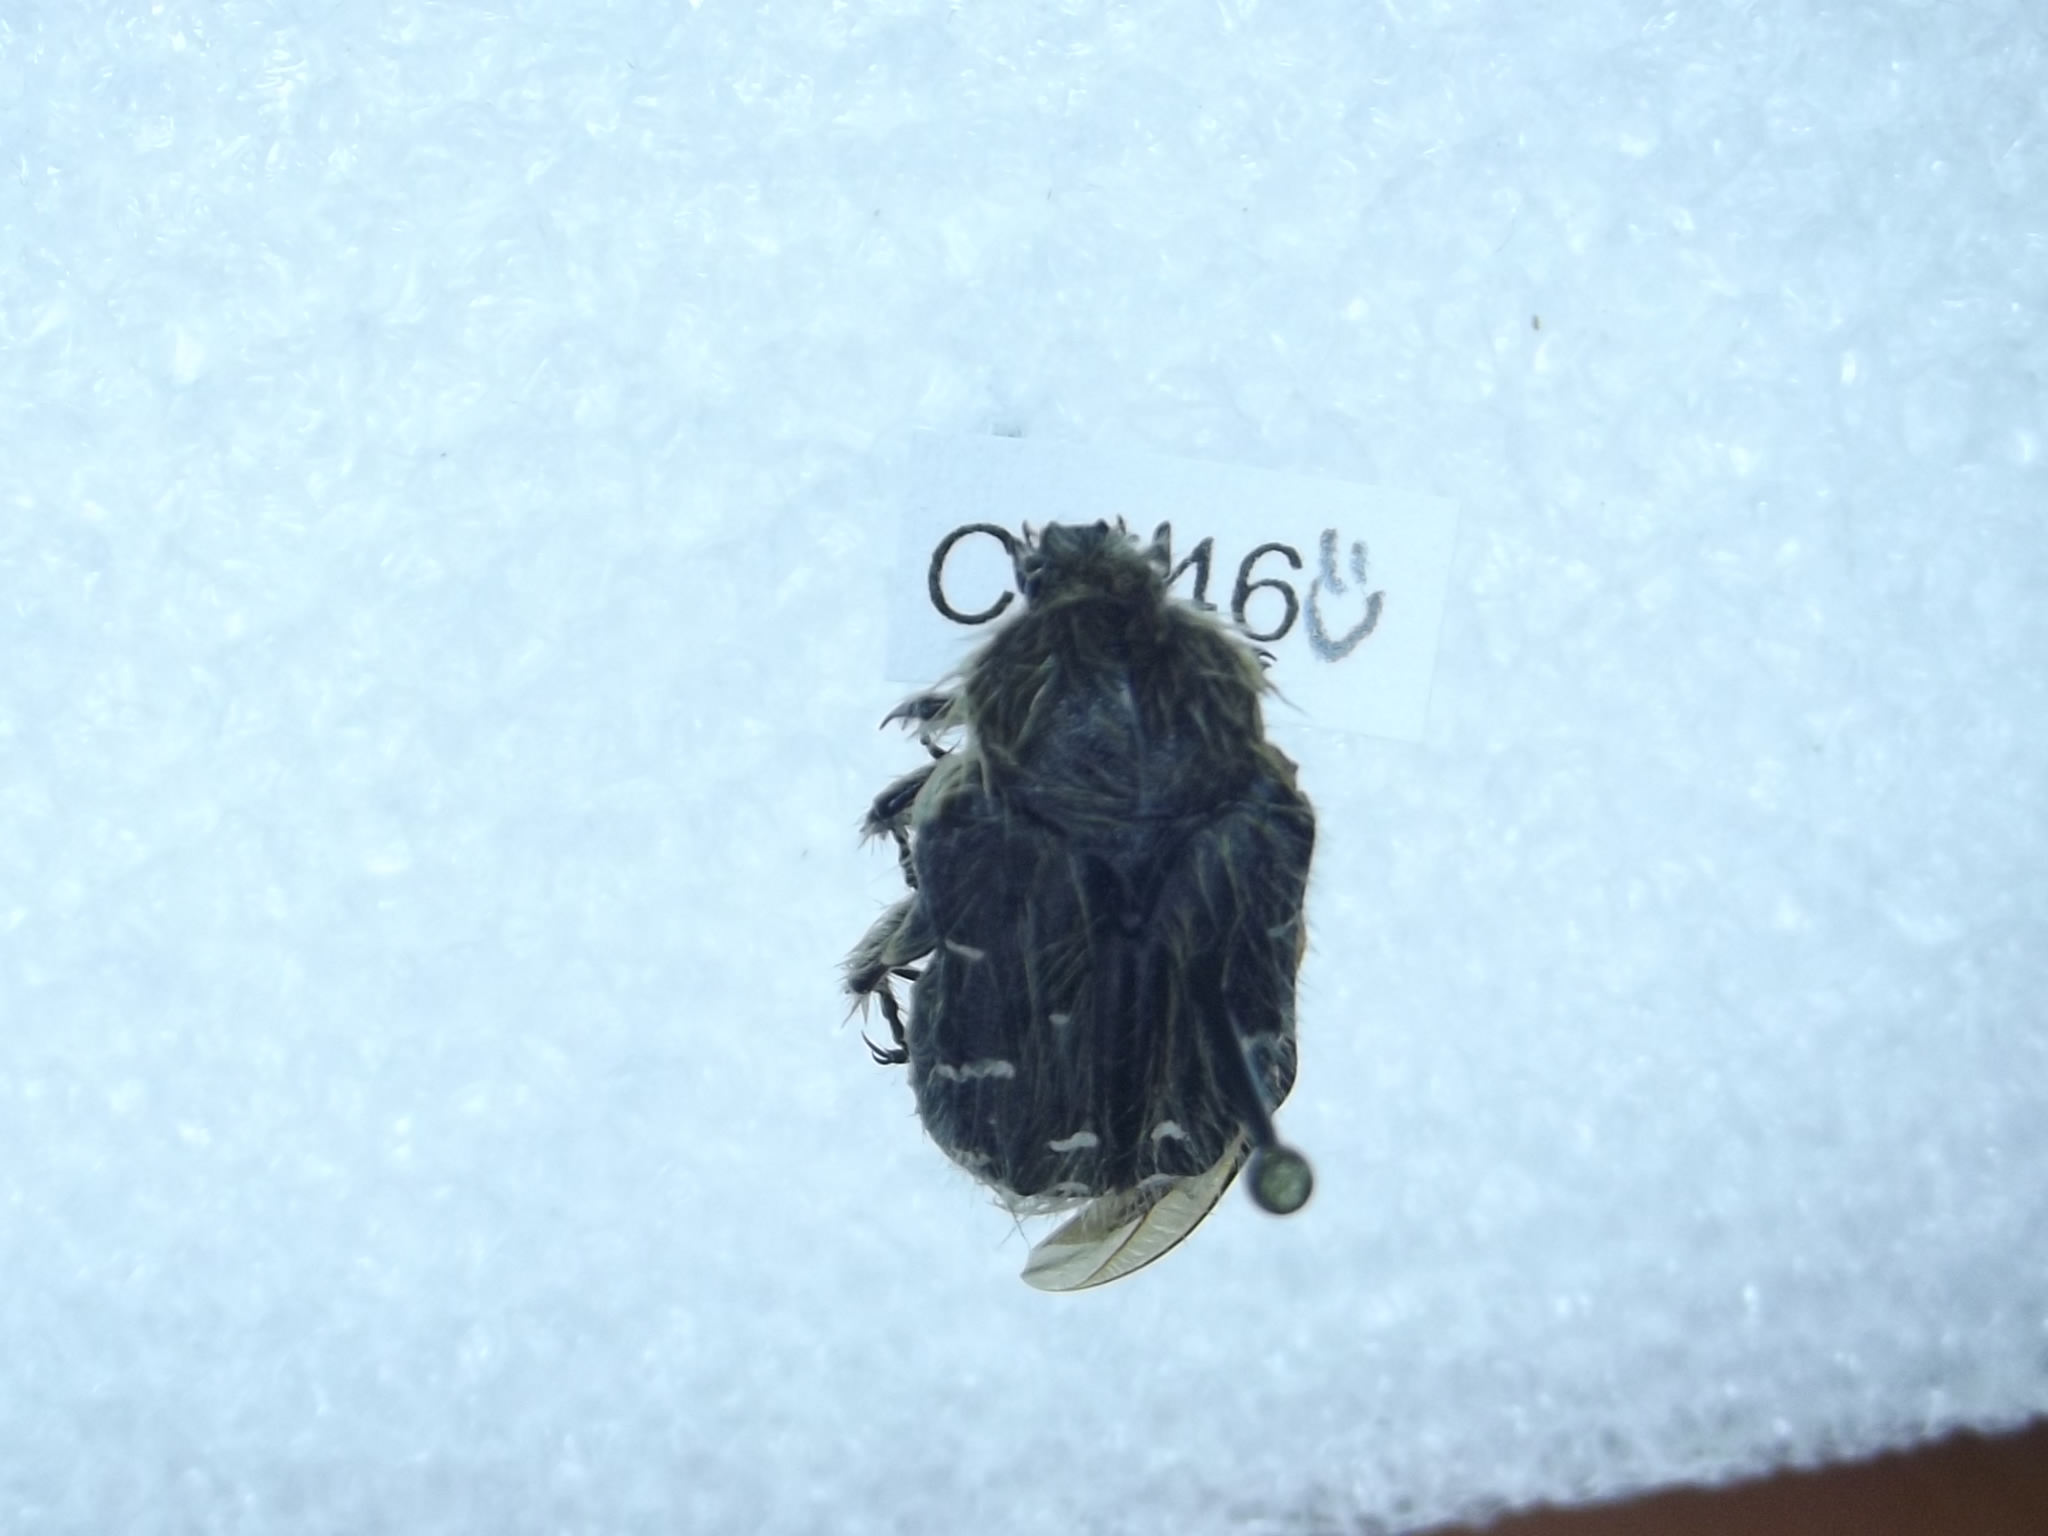Tropinota_senicula: (813, 499, 1334, 1296)
